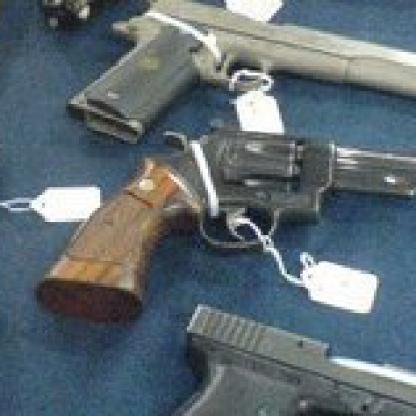gun: (32, 115, 414, 331), (53, 0, 413, 156), (82, 294, 413, 413), (34, 0, 414, 50)
